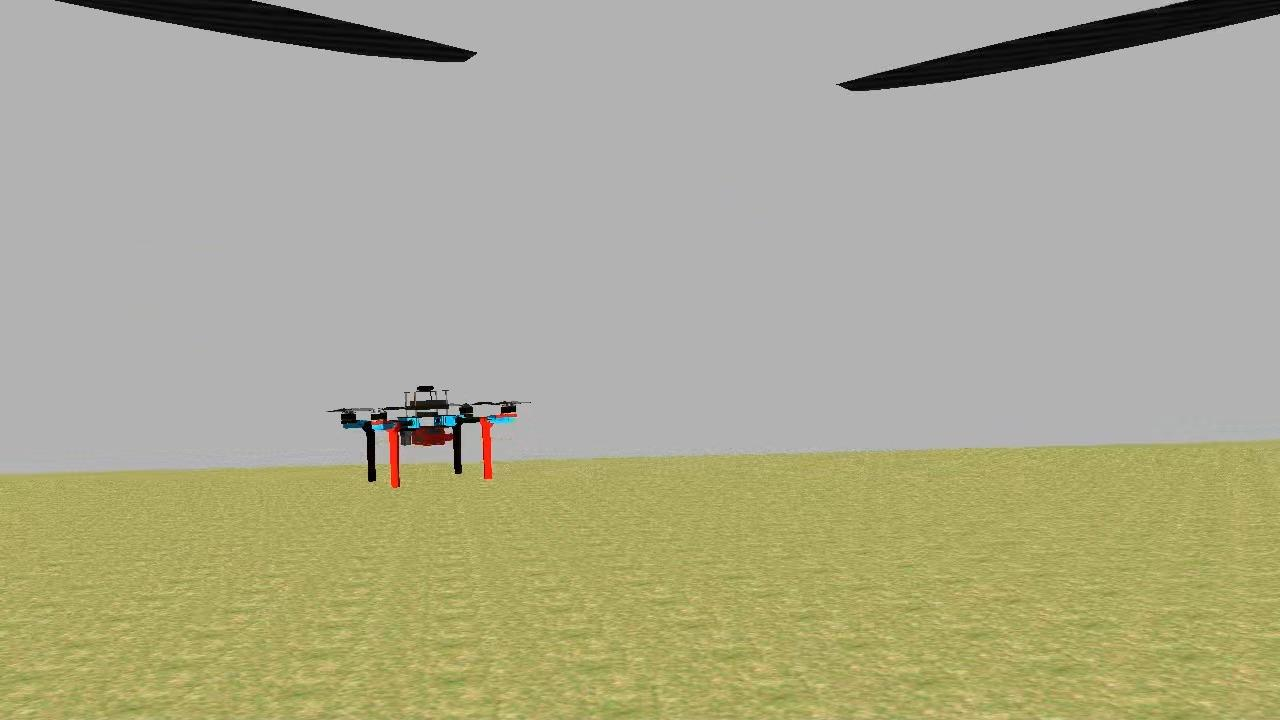UAV: (334, 374, 529, 487)
